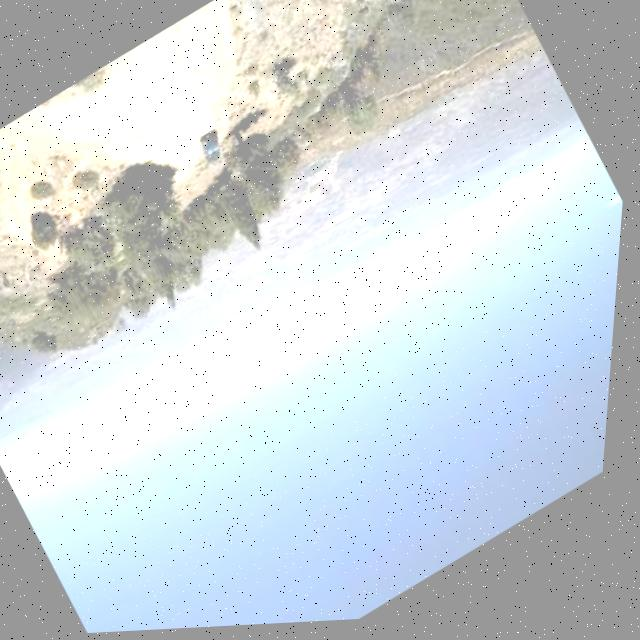Smoke: (457, 180, 509, 236)
